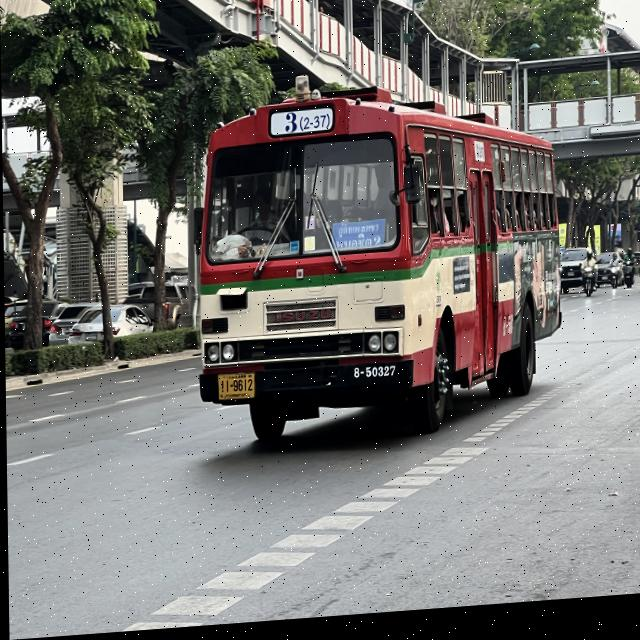BMTA-bus: (186, 54, 569, 462)
Bus-Line-Number: (270, 112, 332, 140)
Destination-Sign-Normal: (330, 223, 385, 256)
